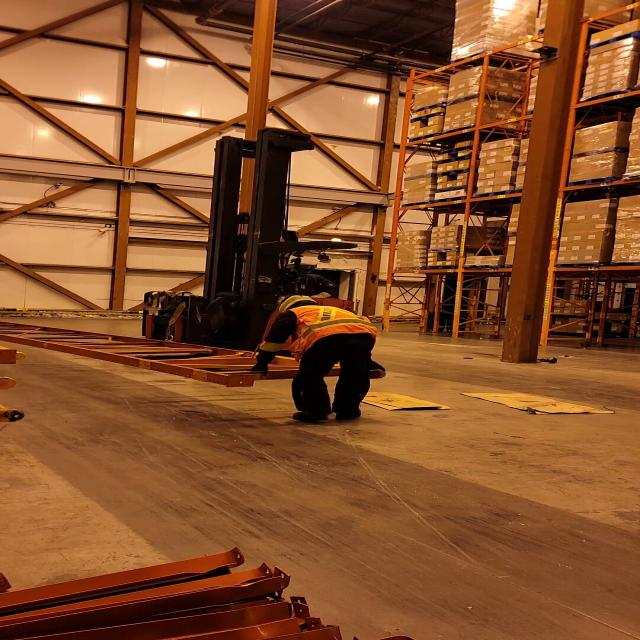forklift: (128, 136, 356, 380)
human: (248, 293, 381, 427), (264, 256, 355, 306)
objectofinterest: (1, 320, 390, 391), (461, 388, 619, 418), (335, 389, 449, 412)
